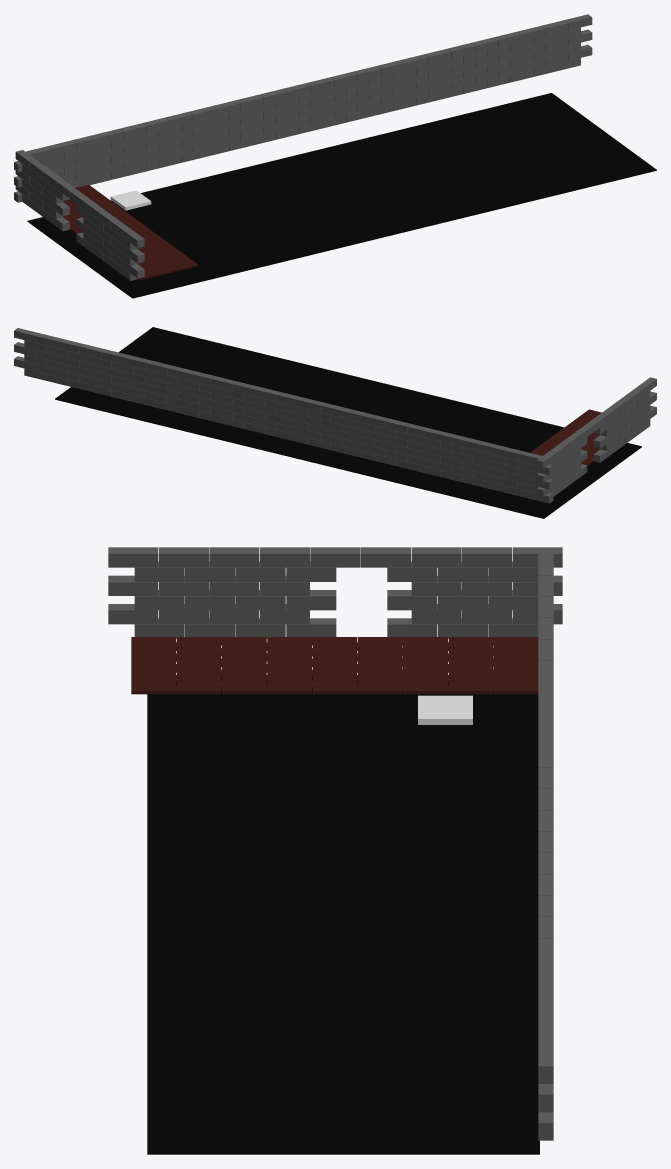
File: 3_levelTEST.fbx
3 views of the same model, one above another, from view 1: azimuth 30°, elevation 25°; view 2: azimuth 150°, elevation 25°; view 3: azimuth 270°, elevation 25° (orthographic). The views are drawn at different scales.
Visible parts, largest first — view 1: Cube.001, Cube, Cube.005, Cube.002, Cube.004; view 2: Cube, Cube.001, Cube.005, Cube.002; view 3: Cube.001, Cube.005, Cube.002, Cube, Cube.004.
Part boxes in pixels (x1,y1,x2,y2): Cube.001: [27, 93, 656, 298]; Cube: [14, 14, 592, 202]; Cube.005: [15, 150, 144, 280]; Cube.002: [63, 184, 197, 280]; Cube.004: [110, 190, 151, 210]; Cube: [14, 328, 553, 503]; Cube.001: [55, 327, 641, 518]; Cube.005: [536, 377, 656, 497]; Cube.002: [530, 409, 601, 465]; Cube.001: [147, 678, 539, 1154]; Cube.005: [108, 547, 562, 638]; Cube.002: [131, 637, 538, 694]; Cube: [538, 554, 553, 1140]; Cube.004: [418, 695, 472, 724].
Size of the model in its own units: 2713 by 302 by 997.
